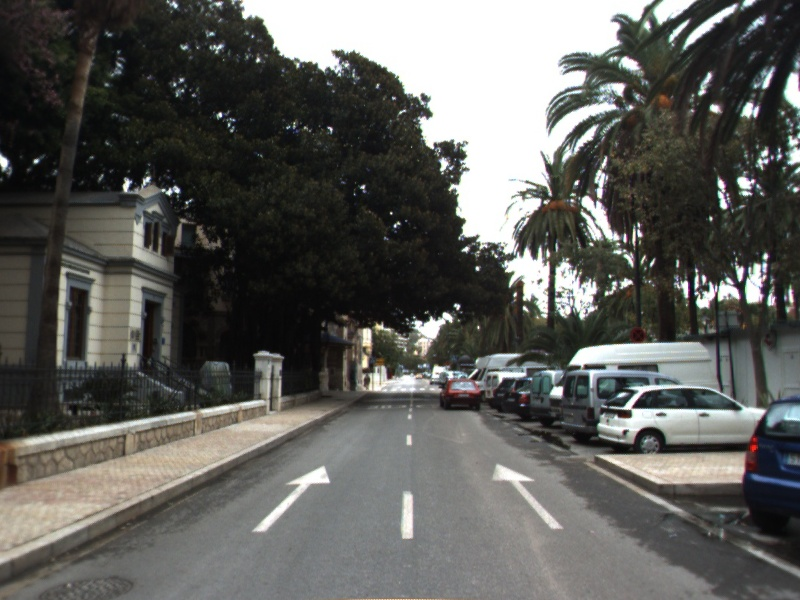STRAIGHT: (250, 463, 333, 535), (489, 461, 567, 531)
